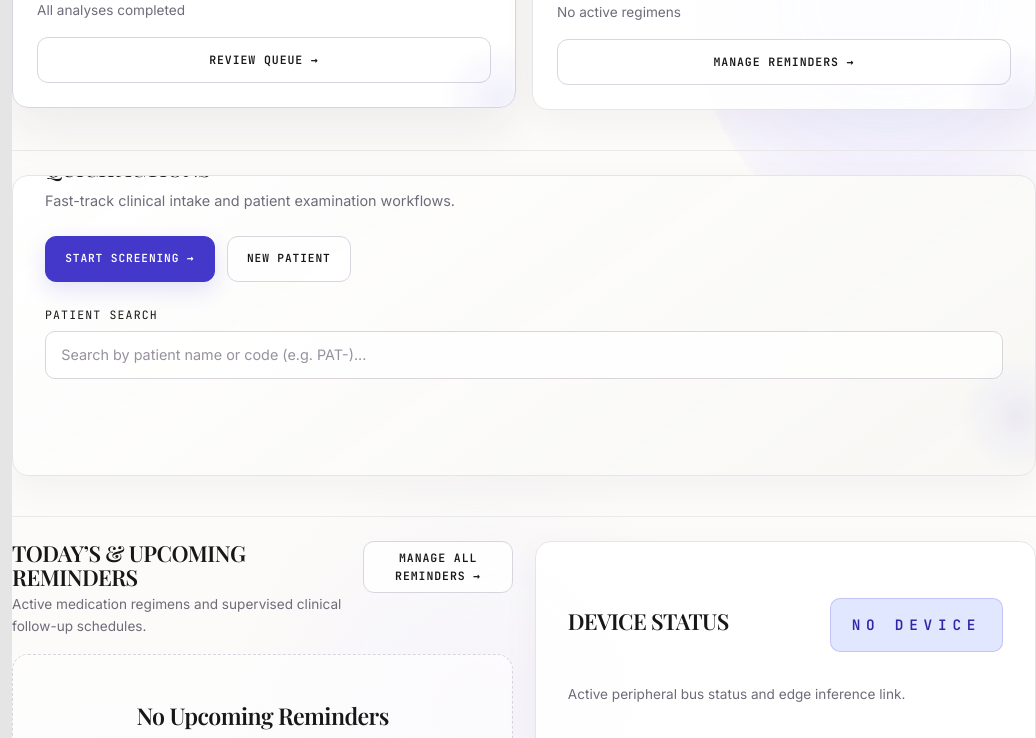
Frontend UI Test Suite › Dashboard Page (01) › handles patient search in Quick Actions
The image size is (1036, 738).
(page scrolled)
In the field named "Patient search bar": (524, 355) [45,331,1003,379], type "Alice"
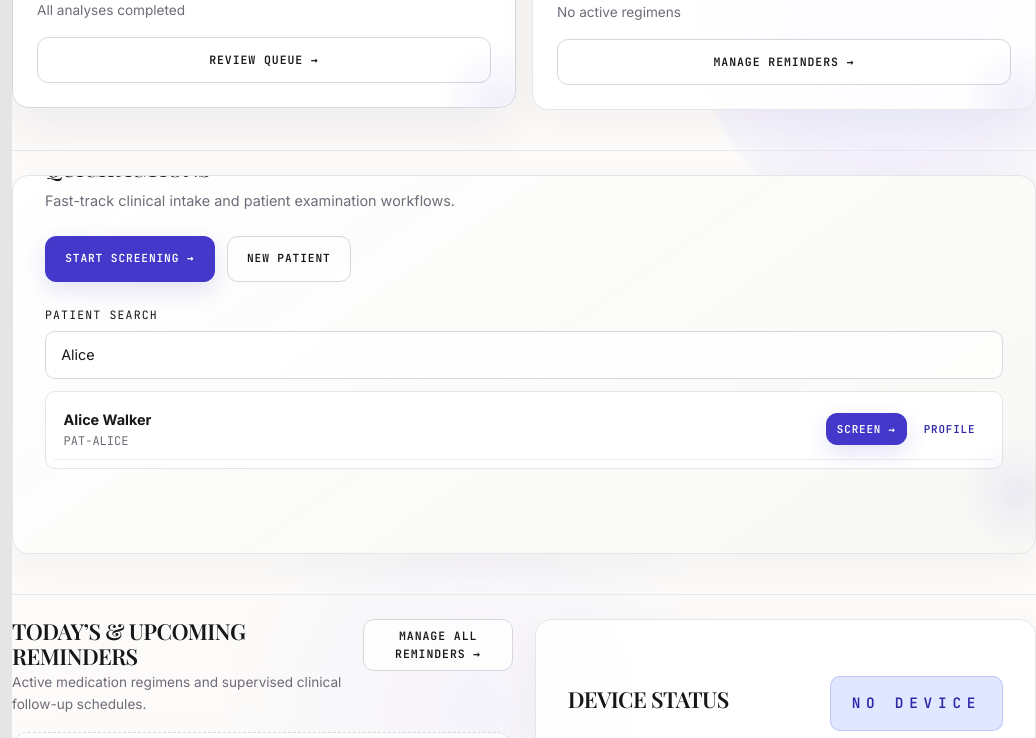
Result: the text "Alice Walker" is shown at [64,411,151,428]
Result: the text "PAT-ALICE" is shown at [64,433,128,449]
Result: the button "Screen →" is shown at [826,413,907,445]
